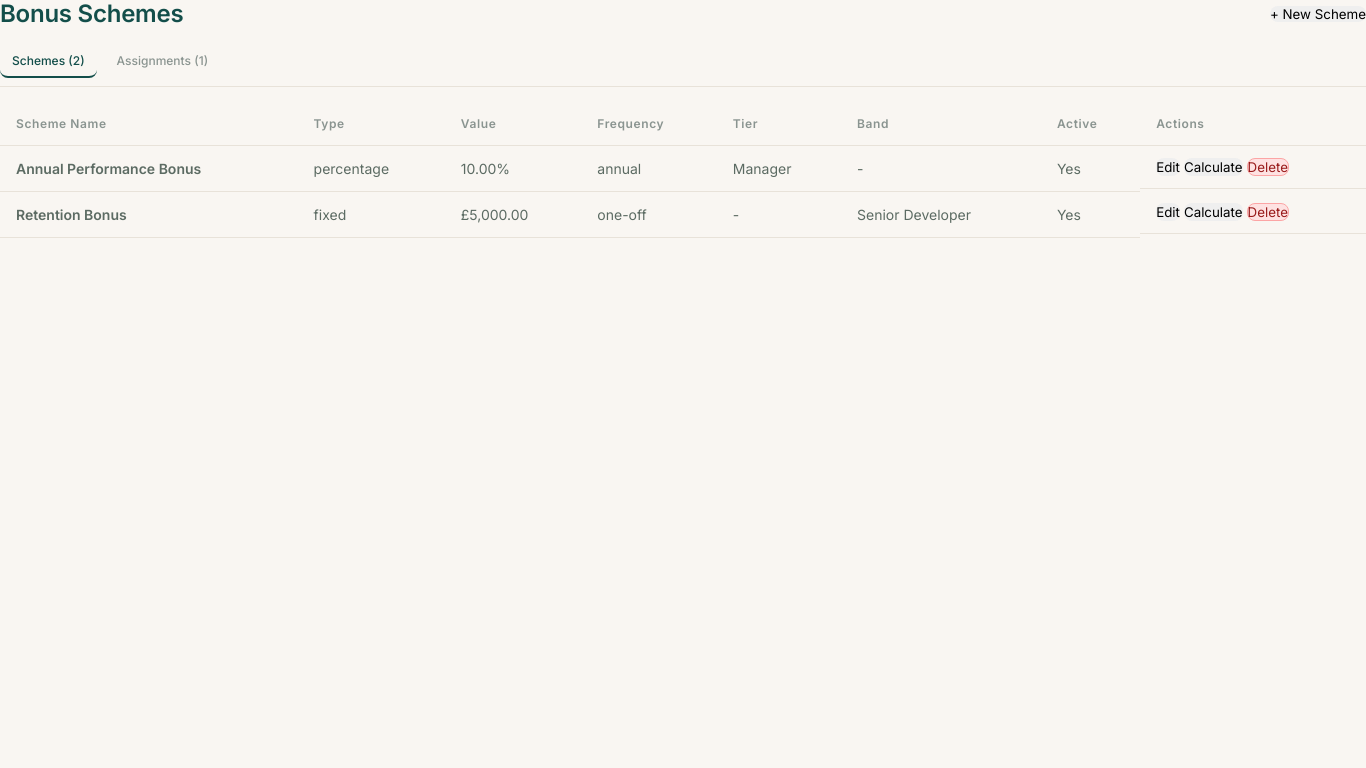
Test: BonusSchemeManager › opens create modal when New Scheme clicked
This screenshot has width=1366, height=768.
Click the button "+ New Scheme" at (1318, 14), box [1270,6,1365,22]
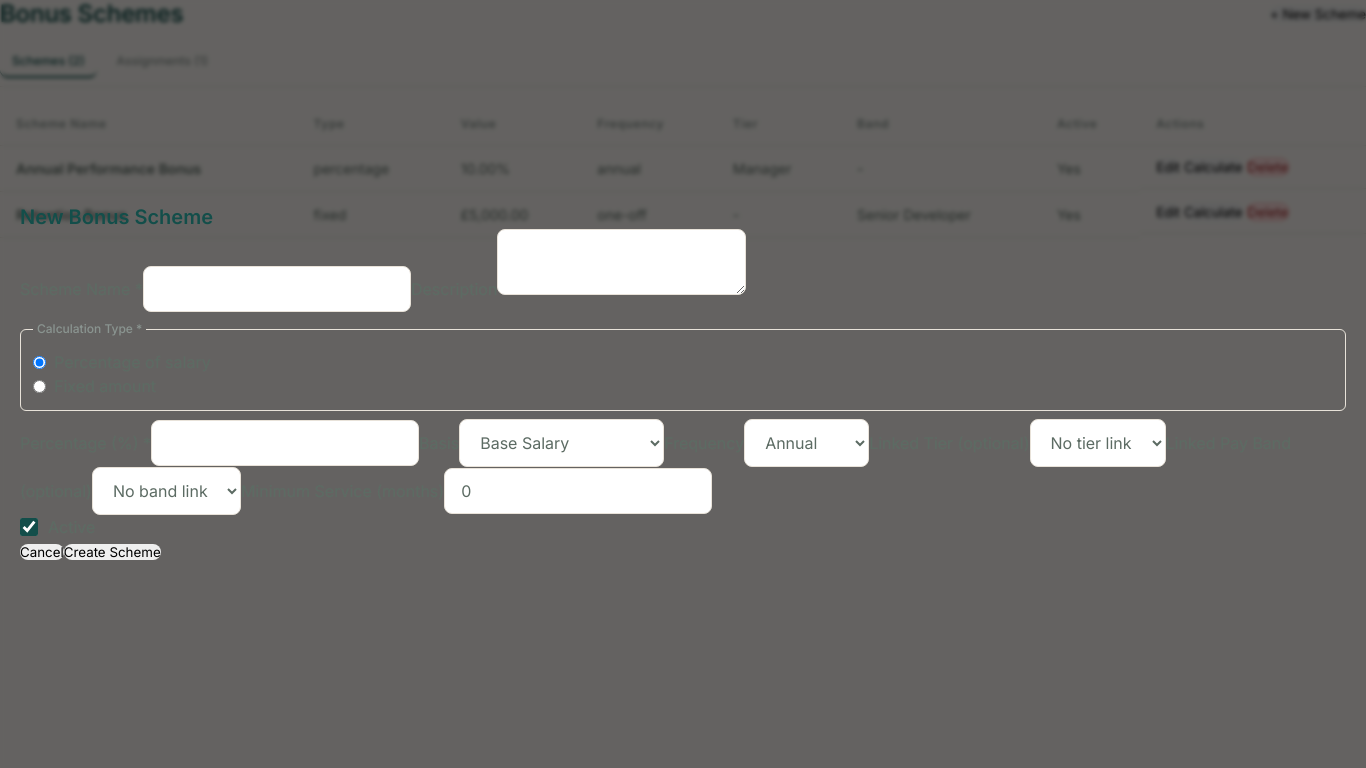
expect the heading "New Bonus Scheme" is shown: met, box [20,205,213,229]
expect the text "Scheme Name *" is shown: met, box [20,279,411,299]
